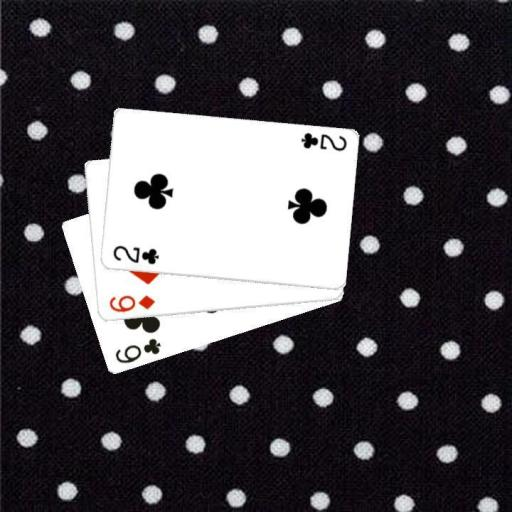card-corner: (112, 335, 162, 365), (110, 242, 160, 266), (297, 130, 348, 153), (106, 292, 156, 314)
